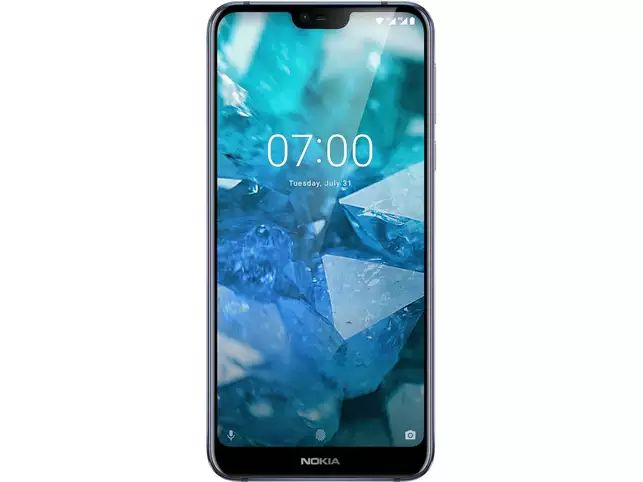Handphone: (204, 1, 439, 482)
